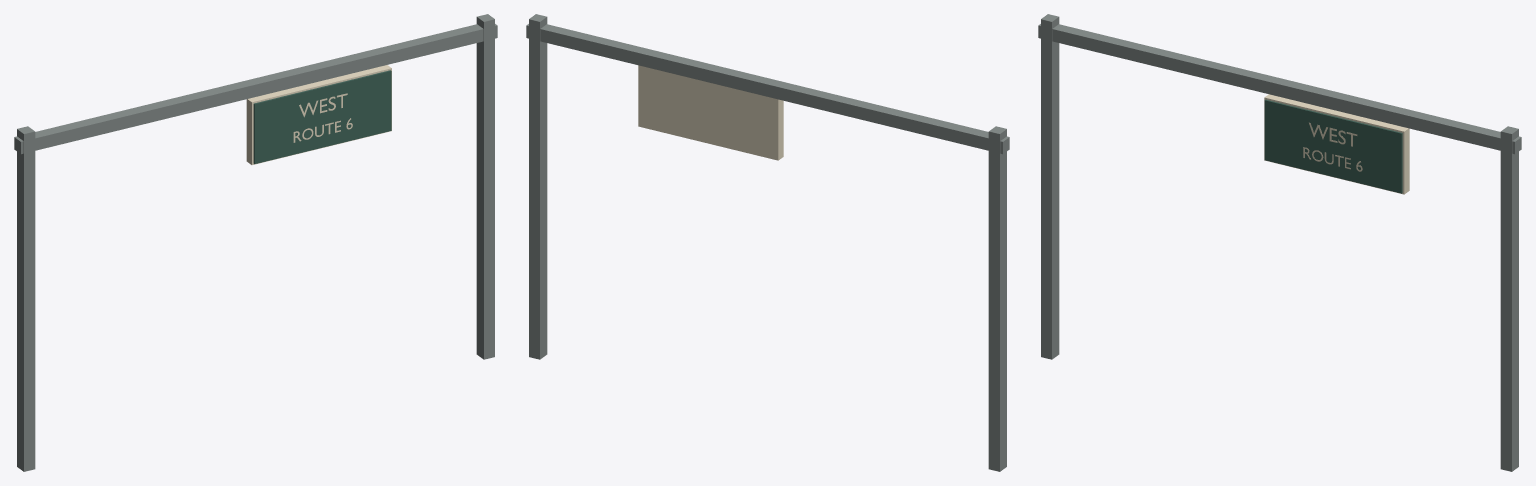
The model's file is overhead_west_route_sign.glb.
3 views of the same model, side by side, from view 1: azimuth 30°, elevation 25°; view 2: azimuth 150°, elevation 25°; view 3: azimuth 330°, elevation 25° (orthographic).
Parts seen in each view (by area): view 1: Crossbeam, Green sign face, Overhead sign upright, Overhead sign upright.001, Sign trim; view 2: Sign trim, Crossbeam, Overhead sign upright, Overhead sign upright.001; view 3: Crossbeam, Green sign face, Overhead sign upright.001, Overhead sign upright, Sign trim.
Part boxes in pixels (<box>): Crossbeam: <box>14,24,497,154</box>; Green sign face: <box>253,70,391,164</box>; Overhead sign upright: <box>17,126,35,471</box>; Overhead sign upright.001: <box>476,14,494,359</box>; Sign trim: <box>246,65,391,164</box>; Sign trim: <box>638,65,783,160</box>; Crossbeam: <box>526,24,1009,154</box>; Overhead sign upright: <box>988,126,1006,471</box>; Overhead sign upright.001: <box>529,14,547,359</box>; Crossbeam: <box>1038,24,1521,154</box>; Green sign face: <box>1264,99,1402,193</box>; Overhead sign upright.001: <box>1500,126,1518,471</box>; Overhead sign upright: <box>1041,14,1059,359</box>; Sign trim: <box>1264,94,1409,194</box>.
Size of the model in its own units: 9.91 by 6.71 by 0.386.
